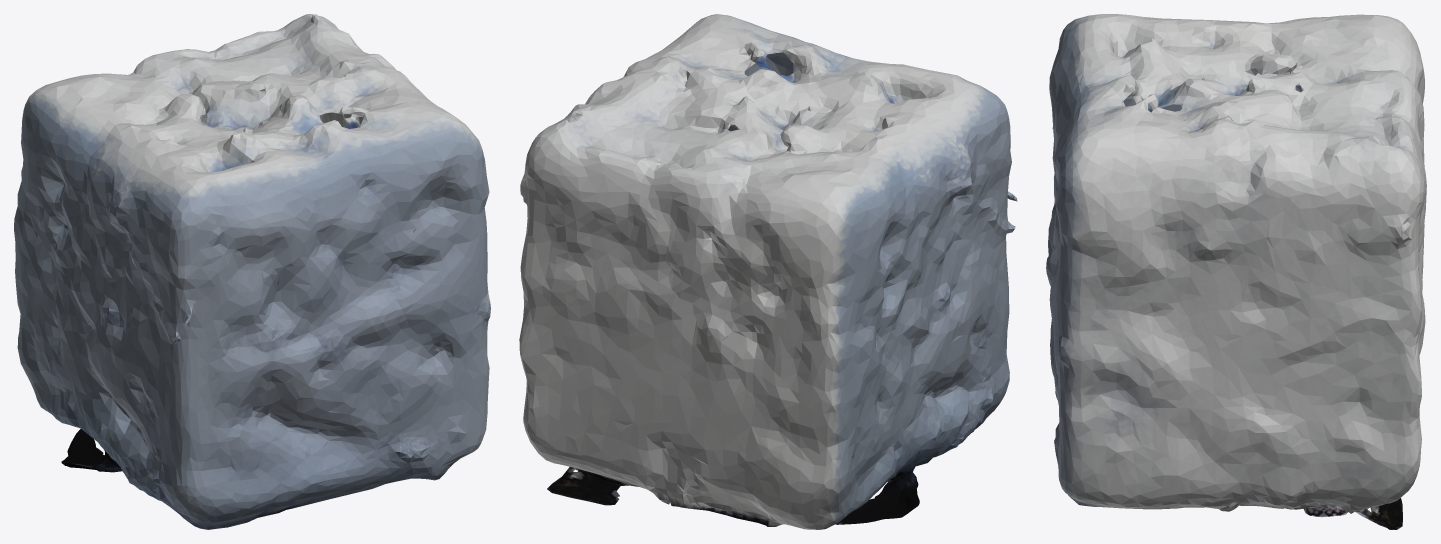
Rendered from snow_box.obj.
3 views of the same model, side by side, from view 1: azimuth 30°, elevation 25°; view 2: azimuth 150°, elevation 25°; view 3: azimuth 270°, elevation 25° (orthographic). The views are drawn at different scales.
Visible parts, largest first — view 1: geometry_0; view 2: geometry_0; view 3: geometry_0.
Part boxes in pixels (x1,y1,x2,y2): geometry_0: (14,14,490,529); geometry_0: (519,14,1017,529); geometry_0: (1046,14,1426,529).
Size of the model in its own units: 0.5261 by 0.5516 by 0.4893.
